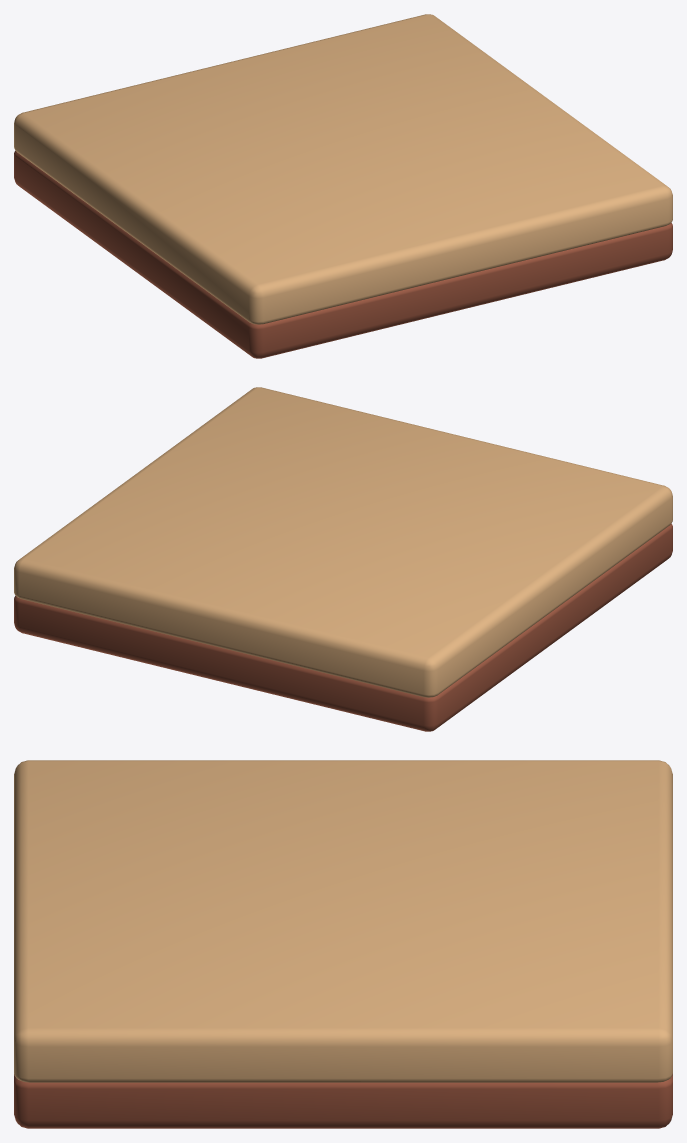
File: tileLarge_desert.glb
The picture shows the model from 3 angles, top to bottom: view 1: azimuth 30°, elevation 25°; view 2: azimuth 150°, elevation 25°; view 3: azimuth 270°, elevation 25°; orthographic projection. The views are drawn at different scales.
Parts seen in each view (by area): view 1: tileLarge_desert; view 2: tileLarge_desert; view 3: tileLarge_desert.
Part boxes in pixels (box(x1,y1,x2,y2)): tileLarge_desert: box(14, 14, 672, 358); tileLarge_desert: box(14, 387, 672, 731); tileLarge_desert: box(14, 760, 672, 1128).
Bounding box in the file's own units: 1.8 × 0.3 × 1.8.
